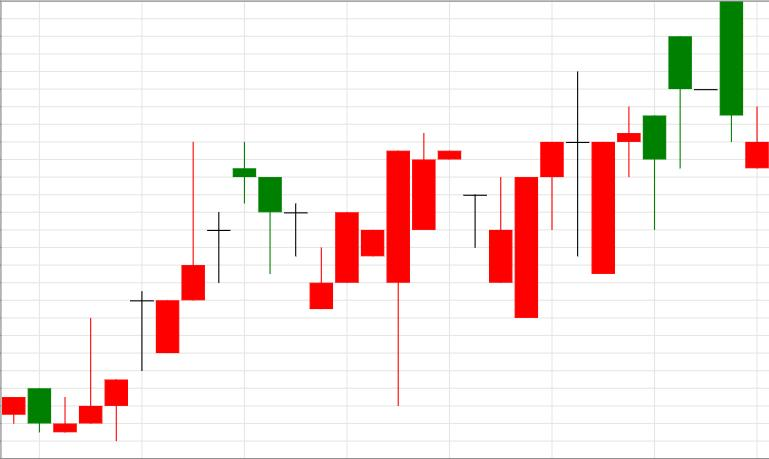hanging_man_fall: (490, 36, 692, 318)
shooting_star_fall: (54, 142, 204, 443)
